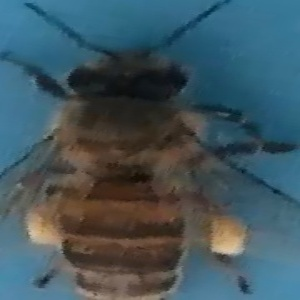bee: (20, 19, 287, 297)
